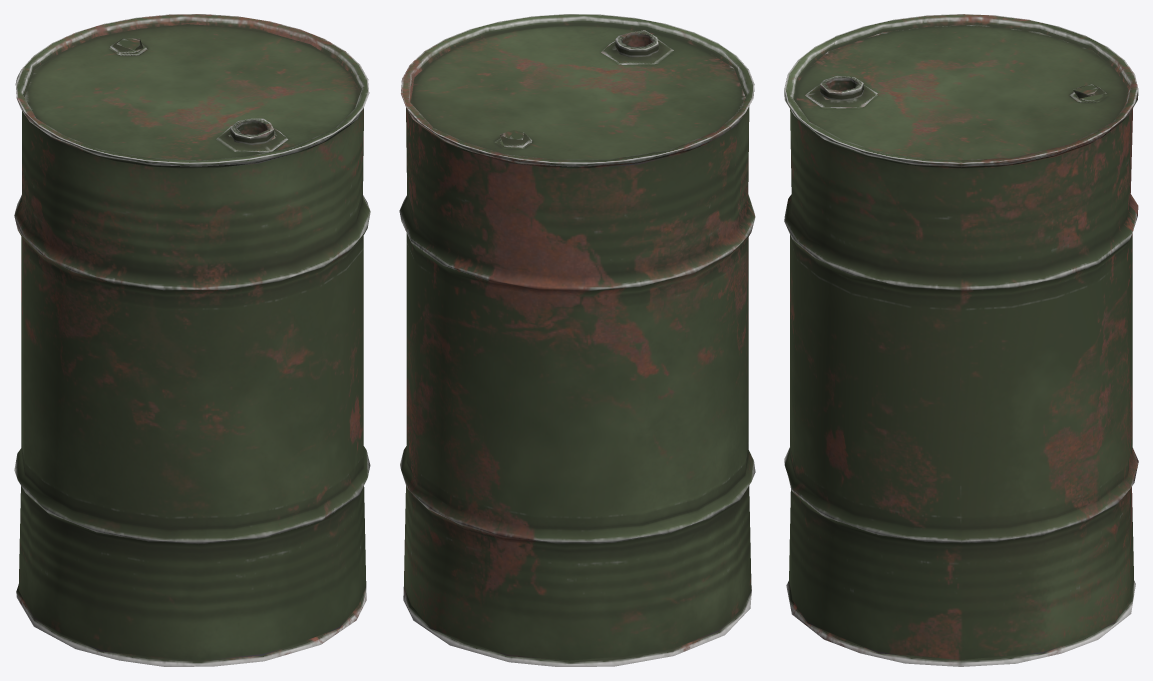
The model's file is SM_steel_barrel_01.fbx.
3 views of the same model, side by side, from view 1: azimuth 30°, elevation 25°; view 2: azimuth 150°, elevation 25°; view 3: azimuth 270°, elevation 25° (orthographic).
Parts seen in each view (by area): view 1: SM_steel_barrel_01_LOD0; view 2: SM_steel_barrel_01_LOD0; view 3: SM_steel_barrel_01_LOD0.
Part boxes in pixels (x1,y1,x2,y2): SM_steel_barrel_01_LOD0: [14, 14, 370, 666]; SM_steel_barrel_01_LOD0: [399, 14, 755, 666]; SM_steel_barrel_01_LOD0: [784, 14, 1138, 666].
Size of the model in its own units: 73.87 by 73.84 by 117.
